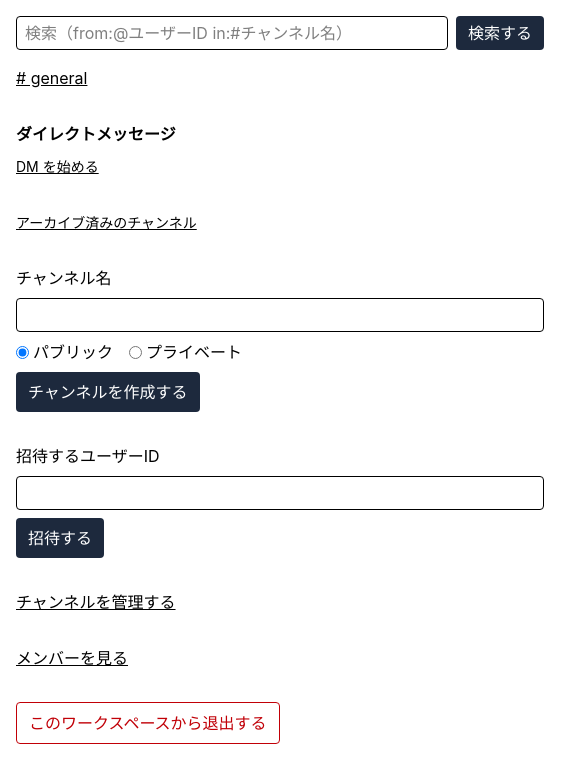
ワークスペースのメンバー（F-06・F-09） › オーナーには自分以外の相手に「キックする」を出し、自分には出さない
(page scrolled)
Step 1. Click the button "メンバーを見る" → (72, 658), box [16,646,128,670]
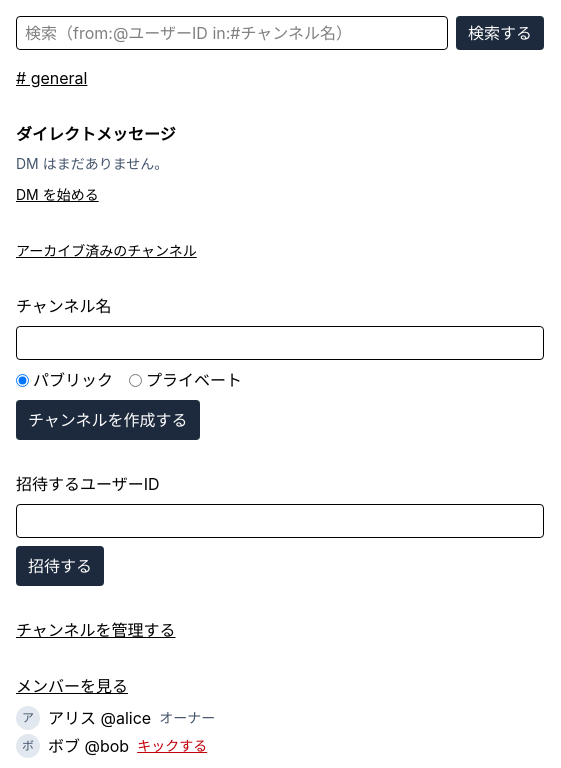
Now the button with aria-label "ボブ をキックする" is shown, box [137,736,207,756]
